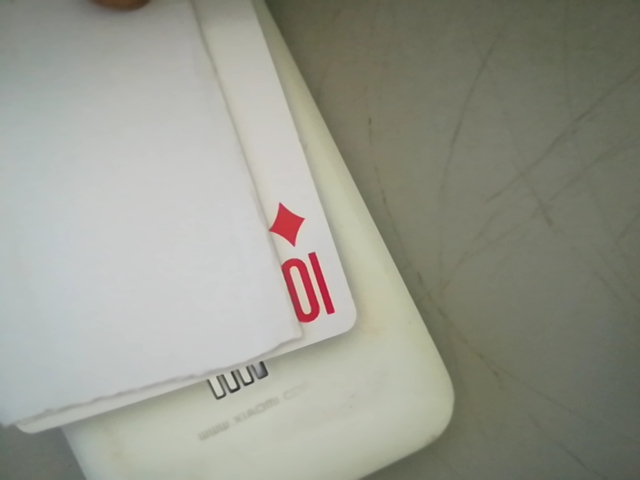fk 10: (257, 196, 351, 337)
